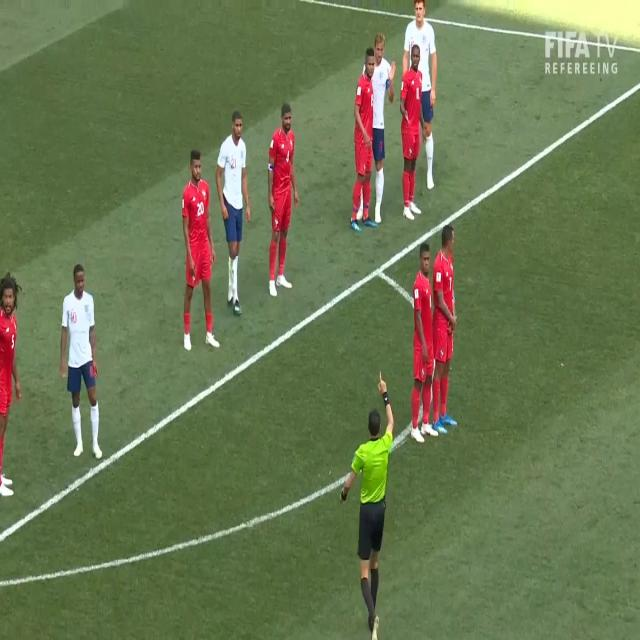player: (59, 264, 103, 460), (268, 104, 298, 295), (184, 152, 212, 353), (219, 117, 247, 314), (411, 5, 438, 189), (436, 220, 458, 432), (1, 273, 22, 493), (414, 246, 436, 442), (371, 29, 388, 222), (406, 48, 424, 225), (358, 45, 375, 227)
